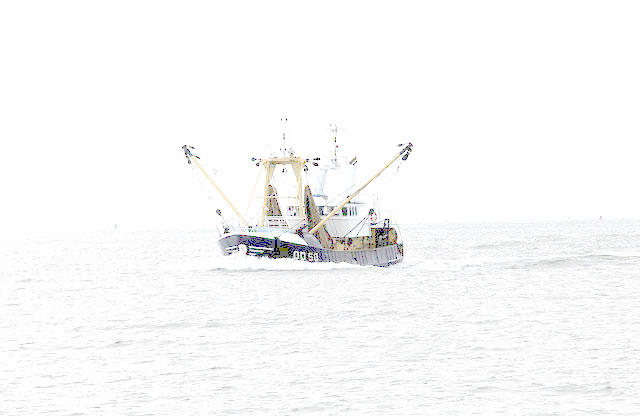fishing_boat: (177, 117, 419, 267)
